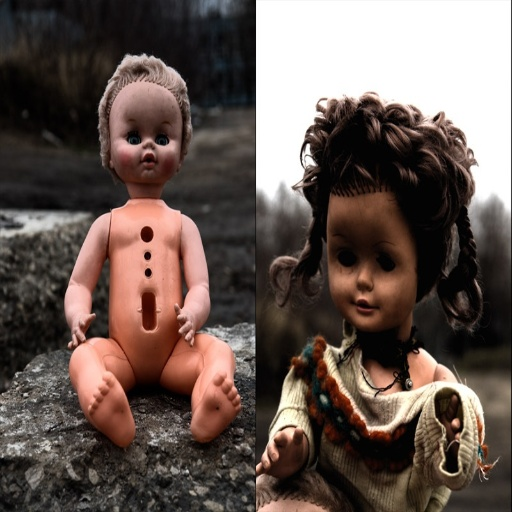hand: (256, 425, 303, 479), (437, 392, 463, 452), (66, 312, 97, 347), (173, 301, 197, 346)
